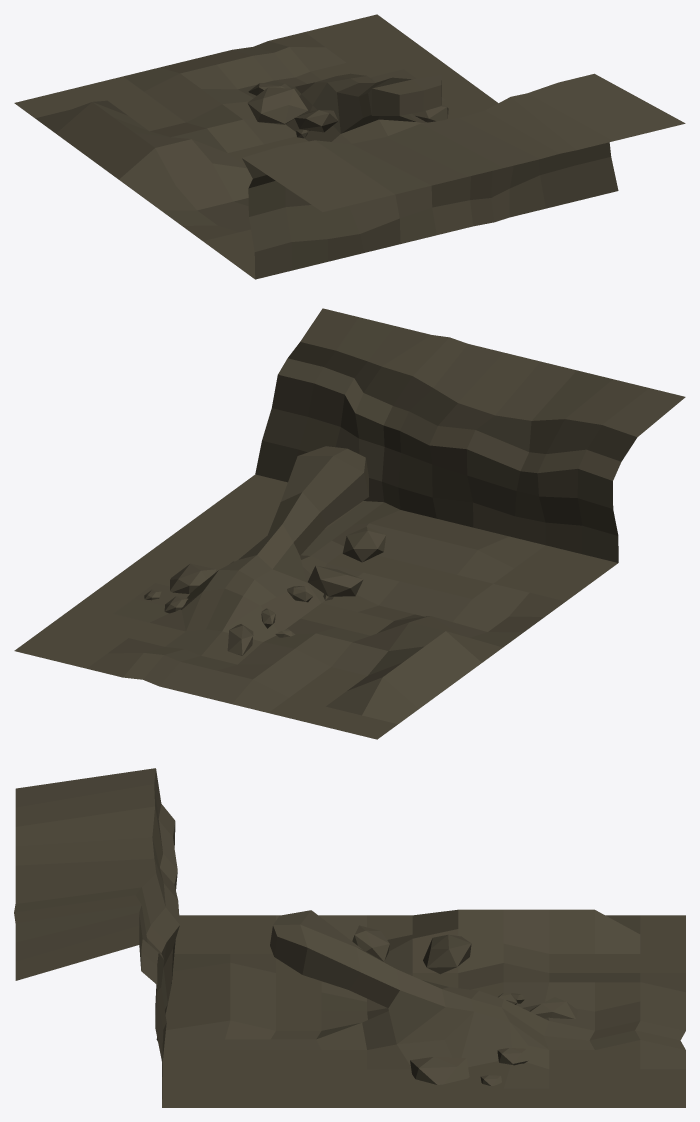
The model's file is Terreno2.glb.
3 renders of one model, top to bottom at view 1: azimuth 30°, elevation 25°; view 2: azimuth 150°, elevation 25°; view 3: azimuth 270°, elevation 25°, orthographic. The views are drawn at different scales.
Parts seen in each view (by area): view 1: Plano subdividido; view 2: Plano subdividido; view 3: Plano subdividido.
Part boxes in pixels (<box>): Plano subdividido: <box>14,14,685,279</box>; Plano subdividido: <box>14,308,685,739</box>; Plano subdividido: <box>14,768,685,1107</box>.
Size of the model in its own units: 207 by 77.02 by 292.
